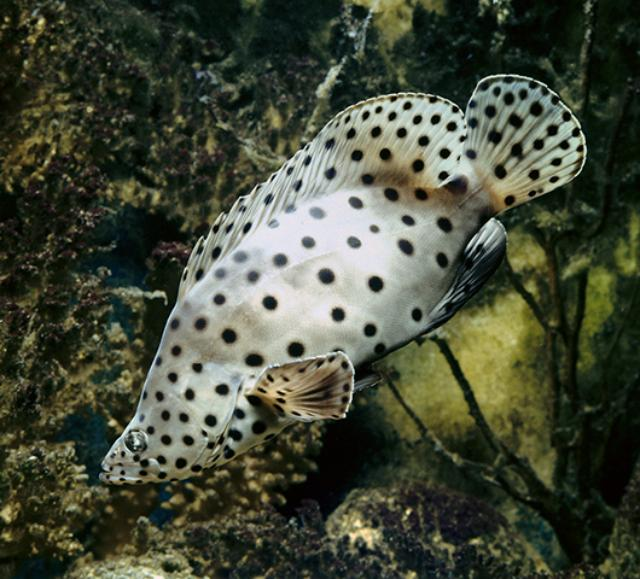Mulut: (80, 436, 156, 504)
Sirip Anal: (436, 210, 530, 330)
Sirip Dada: (248, 340, 364, 438)
Sirip Ekor: (178, 88, 466, 294), (457, 61, 598, 230)
